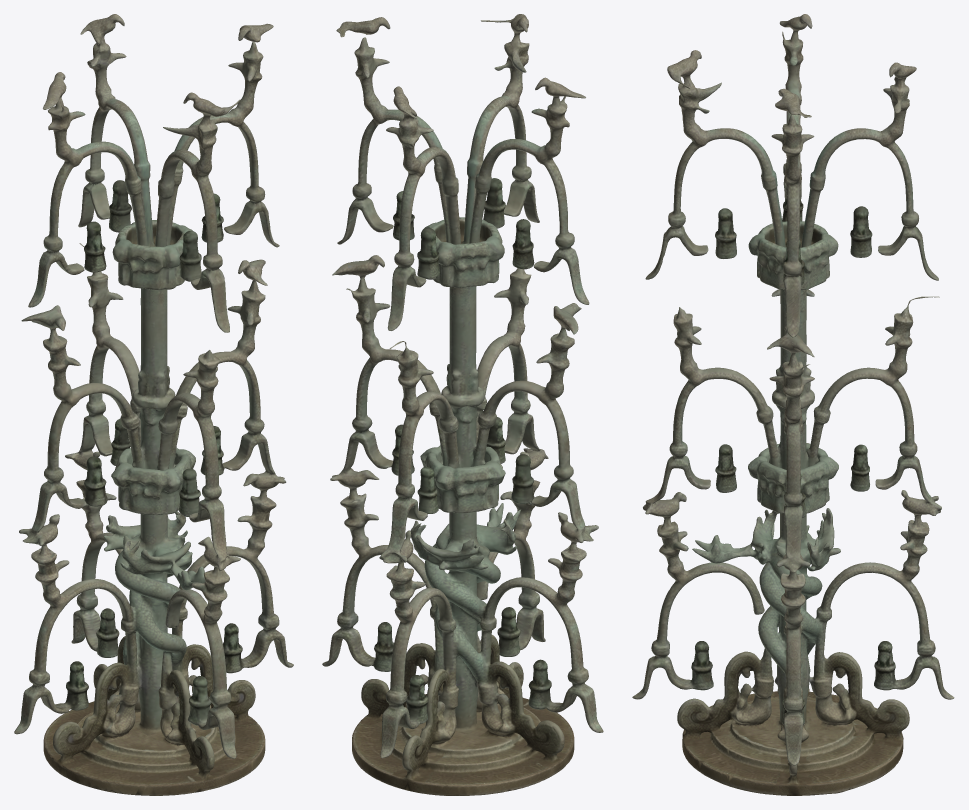
Rendered from bronze-tree.glb.
3 renders of one model, left to right at view 1: azimuth 30°, elevation 25°; view 2: azimuth 150°, elevation 25°; view 3: azimuth 270°, elevation 25°, orthographic.
Bounding box in the file's own units: 0.7793 × 1.88 × 0.7803.
Materials: 1 (1 with a texture image).
